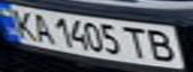0: (81, 19, 103, 53)
1: (48, 15, 72, 47)
4: (66, 17, 87, 51)
5: (100, 21, 124, 56)
A: (27, 11, 57, 44)
B: (142, 27, 184, 63)
K: (3, 6, 39, 40)
T: (121, 24, 151, 60)
